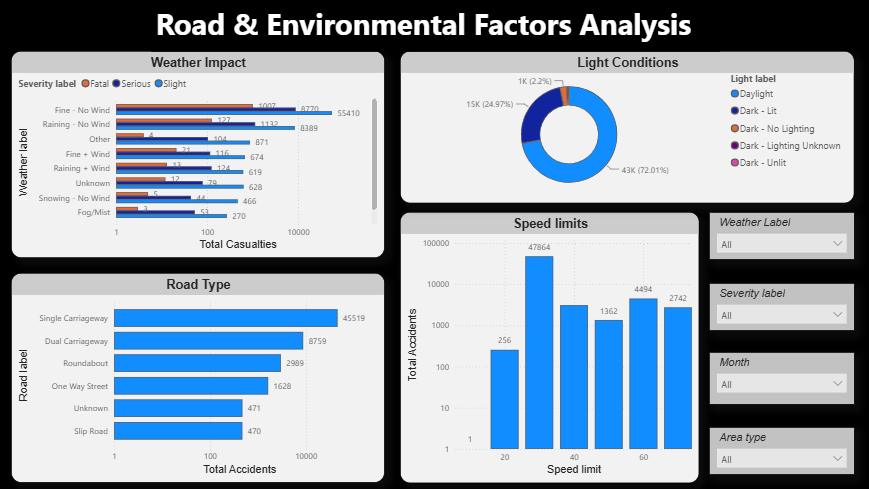

Layout of this report page (visuals, bound fields, positions):
{"tool":"powerbi","page":{"name":"Road & Weather","canvas":[1280,720],"ordinal":2},"visuals":[{"type":"clusteredBarChart","title":"Road Type","fields":{"Category":["Accident Data Analysis.Road_Type-Label"],"Y":["Accident Data Analysis.Total Accidents"]},"box":[18.3,401.7,546.7,306.7],"z":0},{"type":"clusteredBarChart","title":"Weather Impact","fields":{"Y":["Accident Data Analysis.Total Casualties"],"Series":["Accident Data Analysis.severity_label"],"Category":["Accident Data Analysis.Weather_Label"]},"box":[18.3,76.7,546.7,303.3],"z":1000},{"type":"clusteredColumnChart","title":"Speed limits","fields":{"Y":["Accident Data Analysis.Total Accidents"],"Category":["Accident Data Analysis.Speed_limit"]},"box":[588.3,311.7,438.3,396.7],"z":2000},{"type":"donutChart","title":"Light Conditions","fields":{"Y":["Accident Data Analysis.Total Accidents"],"Category":["Accident Data Analysis.Light_label"]},"box":[588.3,76.7,665,223.3],"z":3000},{"type":"slicer","fields":{"Values":["Accident Data Analysis.severity_label"]},"box":[1040,415,213.3,70],"z":4000},{"type":"slicer","fields":{"Values":["Accident Data Analysis.Area_type"]},"box":[1040,626.7,213.3,70],"z":5000},{"type":"slicer","fields":{"Values":["Accident Data Analysis.Weather_Label"]},"box":[1040,311.7,213.3,70],"z":6000},{"type":"slicer","fields":{"Values":["Accident Data Analysis.Date.Variation.Date Hierarchy.Month"]},"box":[1040,516.7,213.3,76.7],"z":7000},{"type":"textbox","box":[223.3,0,833.3,76.7],"z":8000}]}

Visuals, with their boxes in screenshot pixels (x1, y1, x2, y2), scaled from the page's 1280x720 canvas onto the 869x489 screenshot:
"Road Type" clusteredBarChart: rect(12, 273, 384, 481)
"Weather Impact" clusteredBarChart: rect(12, 52, 384, 258)
"Speed limits" clusteredColumnChart: rect(399, 212, 697, 481)
"Light Conditions" donutChart: rect(399, 52, 851, 204)
slicer - Accident Data Analysis.severity_label: rect(706, 282, 851, 329)
slicer - Accident Data Analysis.Area_type: rect(706, 426, 851, 473)
slicer - Accident Data Analysis.Weather_Label: rect(706, 212, 851, 259)
slicer - Accident Data Analysis.Date.Variation.Date Hierarchy.Month: rect(706, 351, 851, 403)
textbox: rect(152, 0, 717, 52)
